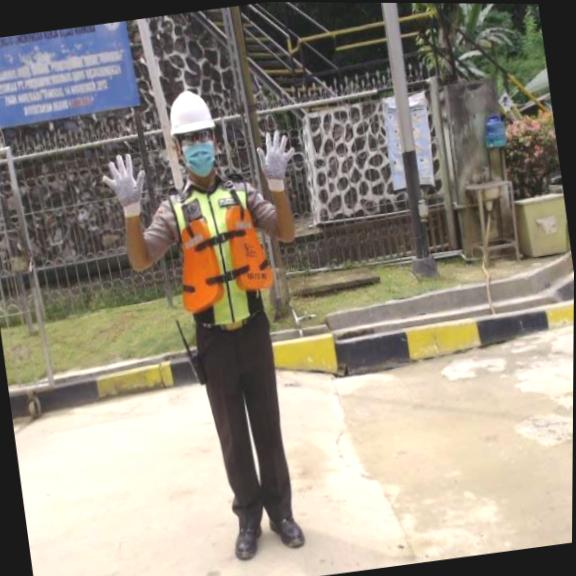safety_vest: (170, 198, 280, 318)
